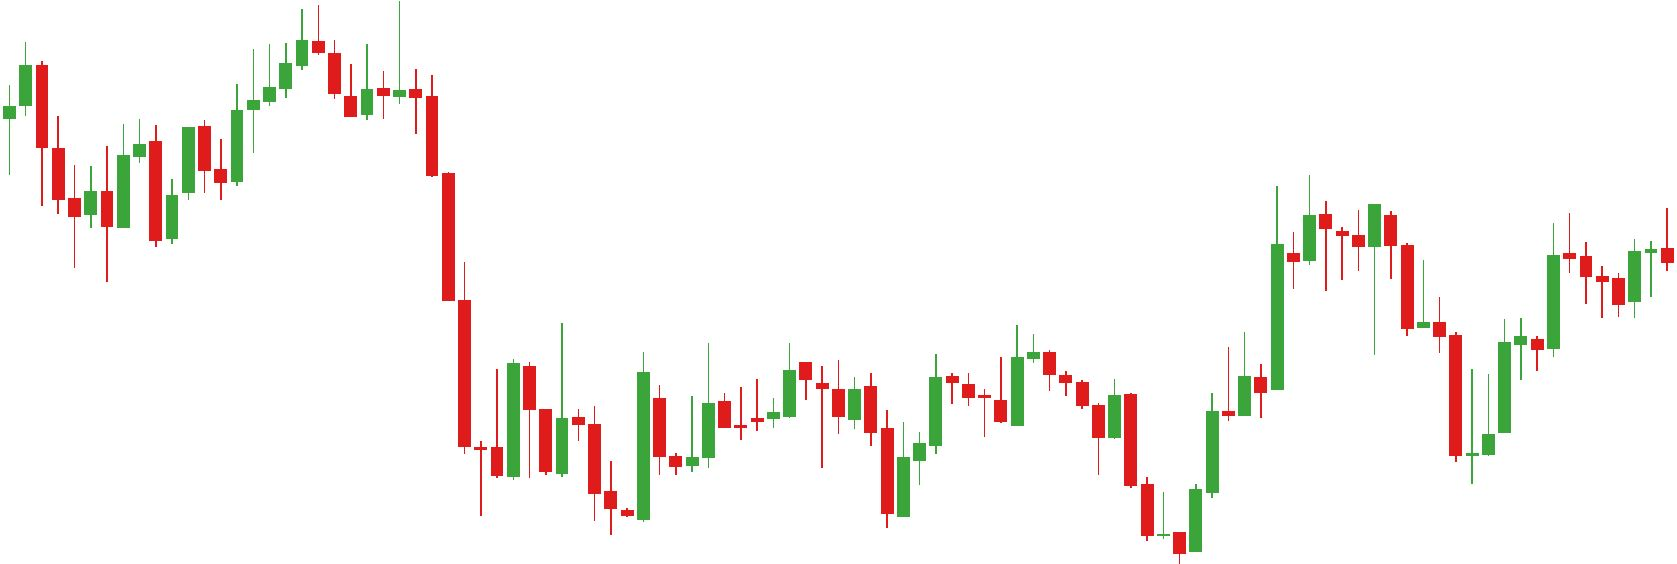buy: (1220, 291, 1516, 478), (880, 425, 1202, 563)
sell: (15, 13, 326, 148)
